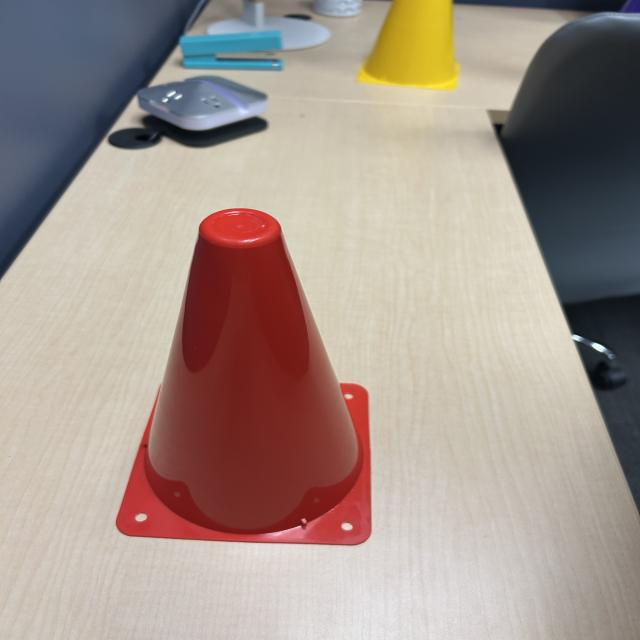orange cone: (109, 202, 386, 550)
